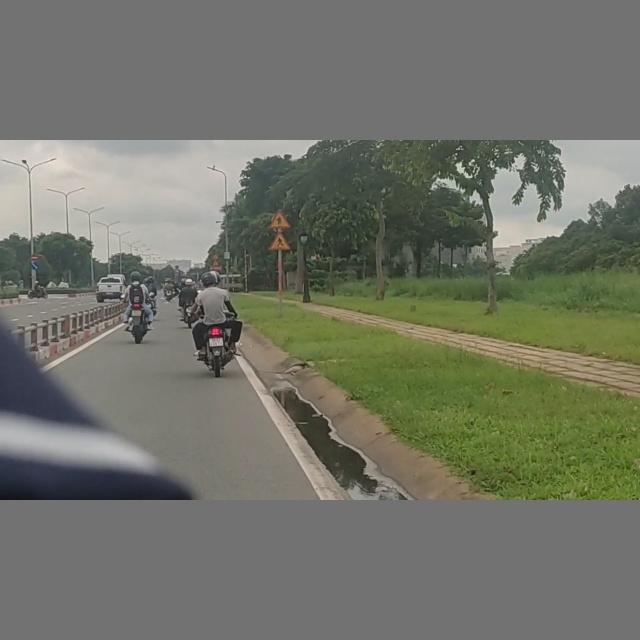P.102: (31, 254, 39, 263)
R.302a: (31, 262, 40, 270)
W.207: (269, 211, 291, 229)
W.224: (268, 232, 291, 251)
